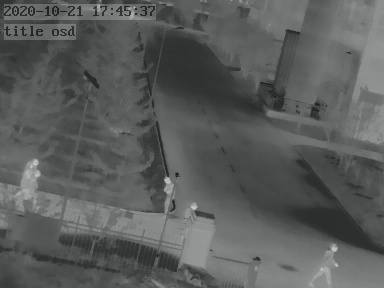person: (13, 156, 43, 207), (310, 237, 339, 287), (162, 174, 175, 212)
